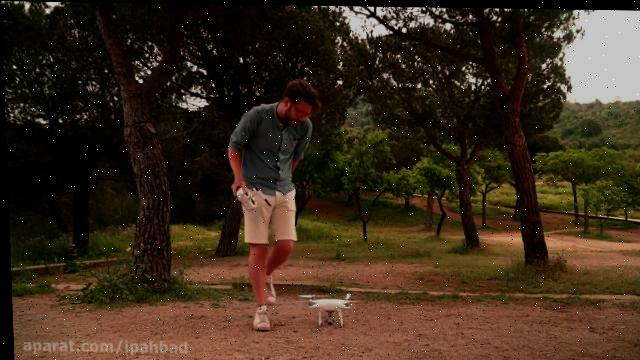drone: (296, 289, 356, 326)
